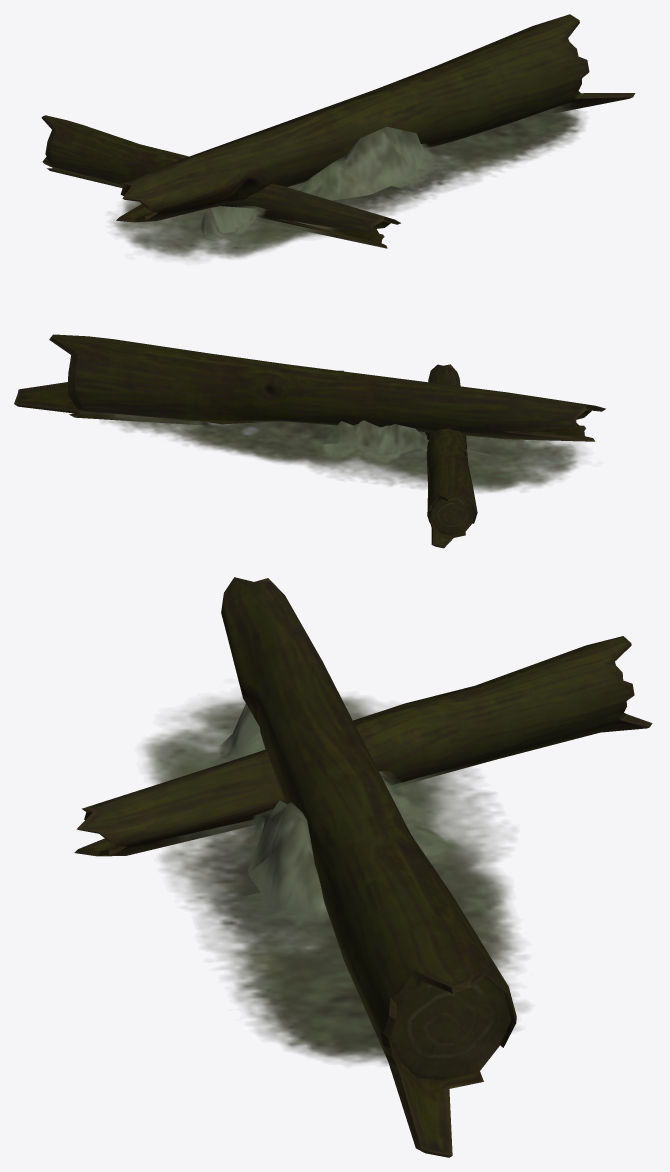
3 views of the same model, one above another, from view 1: azimuth 30°, elevation 25°; view 2: azimuth 150°, elevation 25°; view 3: azimuth 270°, elevation 25° (orthographic). The views are drawn at different scales.
Parts seen in each view (by area): view 1: plants_lying_snag_c-0-snag, plants_lying_snag_c-1-underlay, plants_lying_snag_c-2-underlay; view 2: plants_lying_snag_c-0-snag, plants_lying_snag_c-1-underlay, plants_lying_snag_c-2-underlay; view 3: plants_lying_snag_c-0-snag, plants_lying_snag_c-1-underlay, plants_lying_snag_c-2-underlay.
Part boxes in pixels (x1,y1,x2,y2): plants_lying_snag_c-0-snag: (41,14,635,248); plants_lying_snag_c-1-underlay: (111,103,585,260); plants_lying_snag_c-2-underlay: (178,126,435,239); plants_lying_snag_c-0-snag: (14,334,605,548); plants_lying_snag_c-1-underlay: (100,413,585,492); plants_lying_snag_c-2-underlay: (315,370,526,465); plants_lying_snag_c-0-snag: (74,577,652,1157); plants_lying_snag_c-1-underlay: (142,696,527,1065); plants_lying_snag_c-2-underlay: (214,703,462,926).
Size of the model in its own units: 4.21 by 0.6218 by 2.42.
2 materials, 2 textured.
